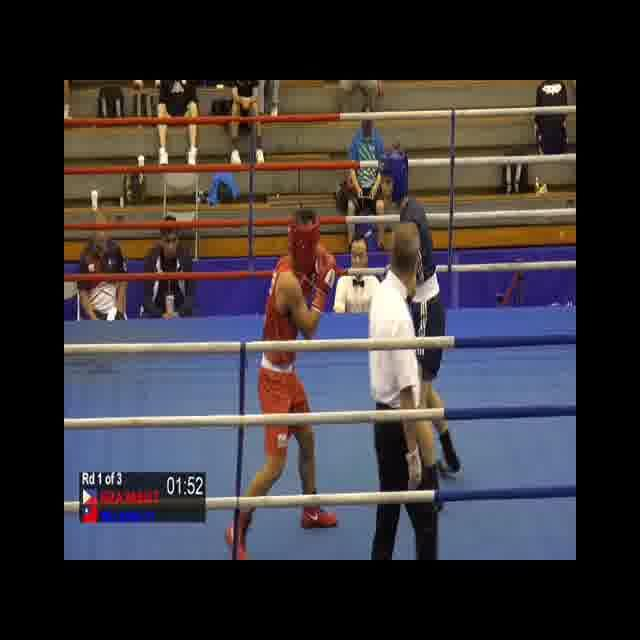blue-player: (370, 144, 462, 514)
red-player: (222, 204, 341, 561)
referee: (365, 216, 441, 561)
